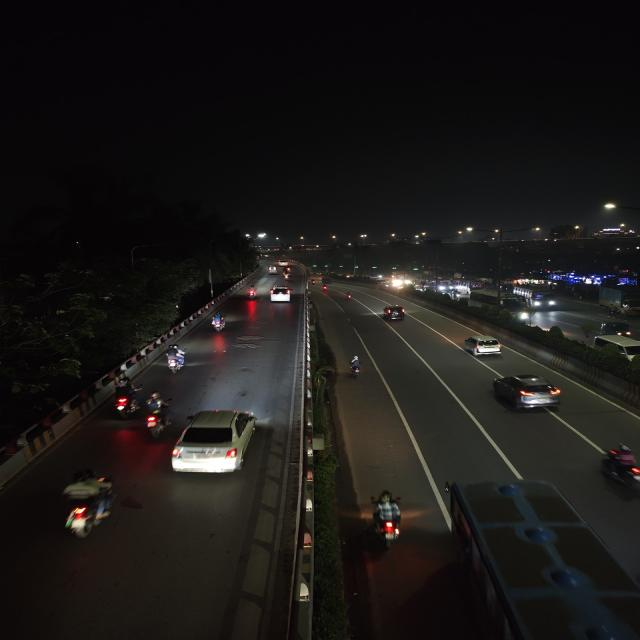bus: (440, 472, 640, 640), (470, 290, 529, 321), (516, 284, 558, 310), (413, 278, 441, 292), (435, 278, 456, 290)
car: (170, 405, 264, 480), (488, 371, 567, 415), (588, 331, 640, 362), (461, 334, 504, 359), (381, 303, 408, 323), (268, 284, 292, 304), (276, 258, 290, 266)
cng: (596, 320, 634, 338)
motorcycle: (56, 468, 119, 540), (362, 486, 412, 550), (139, 393, 173, 439), (109, 380, 141, 419), (161, 345, 189, 375), (345, 354, 367, 381), (208, 312, 229, 334), (244, 284, 259, 300), (344, 291, 355, 302), (281, 270, 292, 280), (320, 284, 330, 294)
truck: (599, 286, 640, 316)
